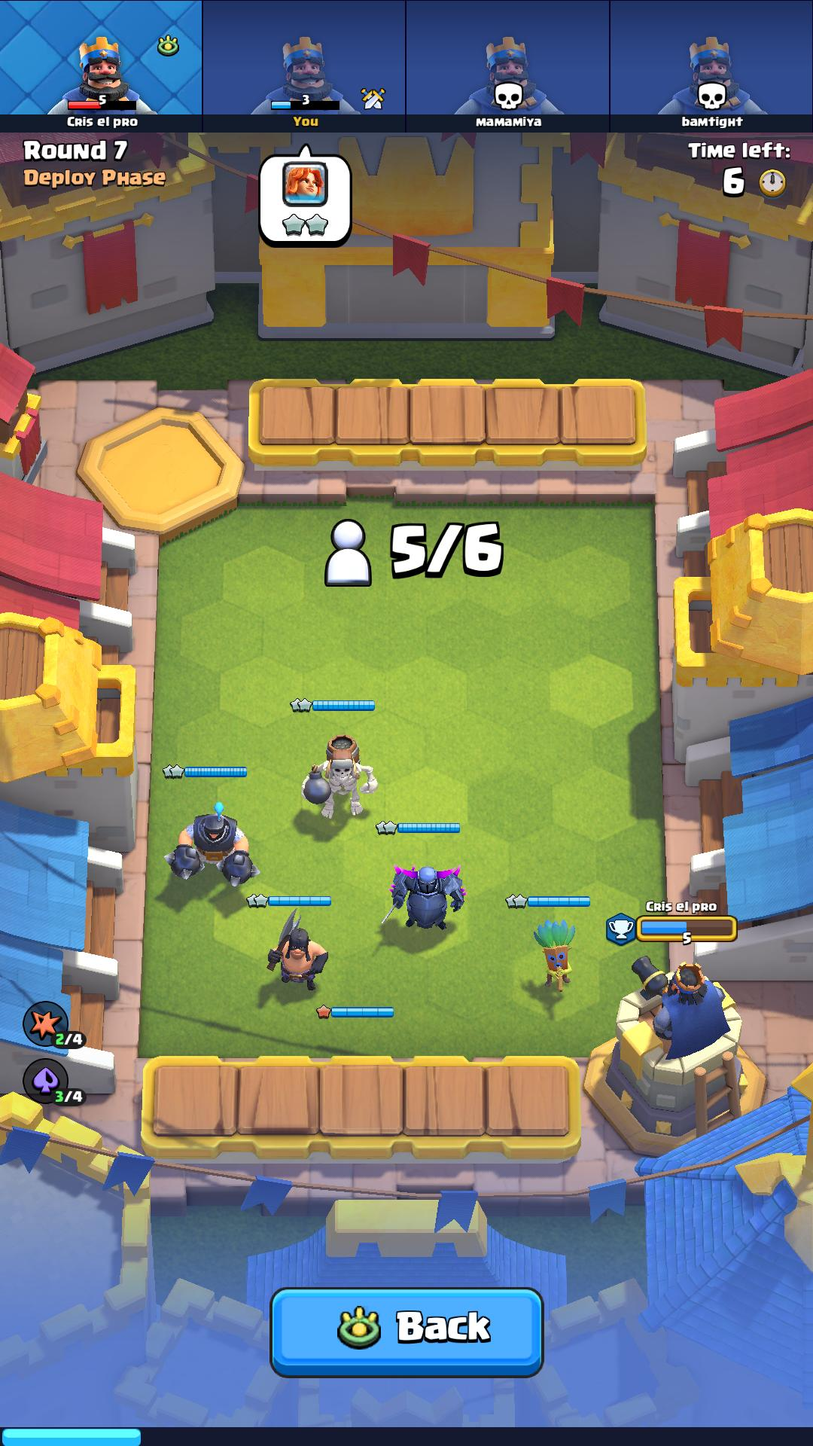dart: (526, 912, 591, 999)
executioner: (257, 907, 337, 988)
giant: (298, 730, 380, 822)
mega: (161, 799, 262, 888)
pekka: (372, 856, 474, 932)
